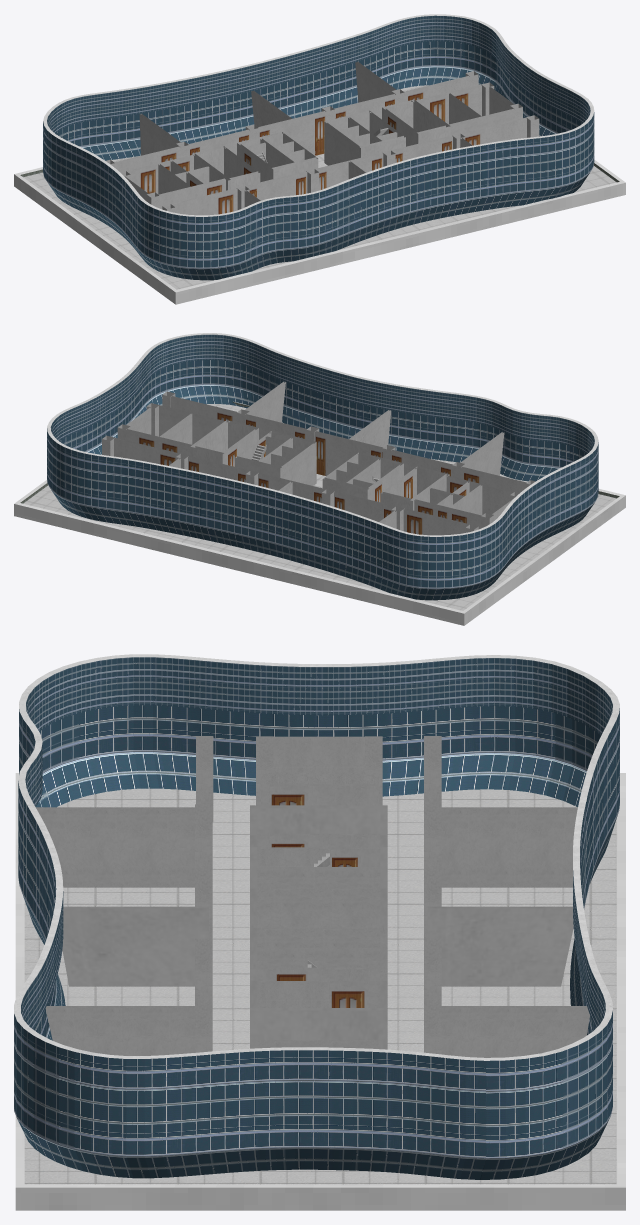
3 views of the same model, one above another, from view 1: azimuth 30°, elevation 25°; view 2: azimuth 150°, elevation 25°; view 3: azimuth 270°, elevation 25° (orthographic). The views are drawn at different scales.
Parts seen in each view (by area): view 1: 19c.001; view 2: 19c.001; view 3: 19c.001.
Part boxes in pixels (left/top/right/bottom): 19c.001: left=14, top=14, right=625, bottom=304; 19c.001: left=14, top=333, right=625, bottom=625; 19c.001: left=14, top=654, right=625, bottom=1210.
Size of the model in its own units: 55.65 by 9.02 by 34.71.
Materials: 8 (7 with a texture image).
